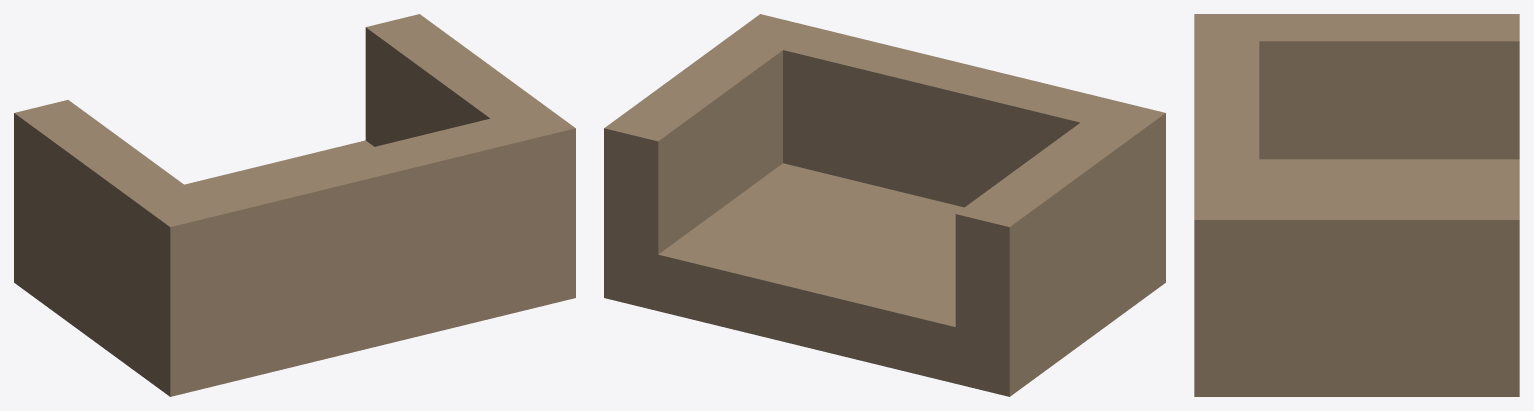
The model's file is bread_basket.glb.
The picture shows the model from 3 angles, left to right: view 1: azimuth 30°, elevation 25°; view 2: azimuth 150°, elevation 25°; view 3: azimuth 270°, elevation 25°; orthographic projection. The views are drawn at different scales.
Parts seen in each view (by area): view 1: body; view 2: body; view 3: body.
Boxes of the visible parts, x1,y1,x2,y2 form: body: (14, 14, 575, 396); body: (604, 14, 1165, 396); body: (1194, 14, 1519, 396).
Size of the model in its own units: 0.3 by 0.12 by 0.2.
